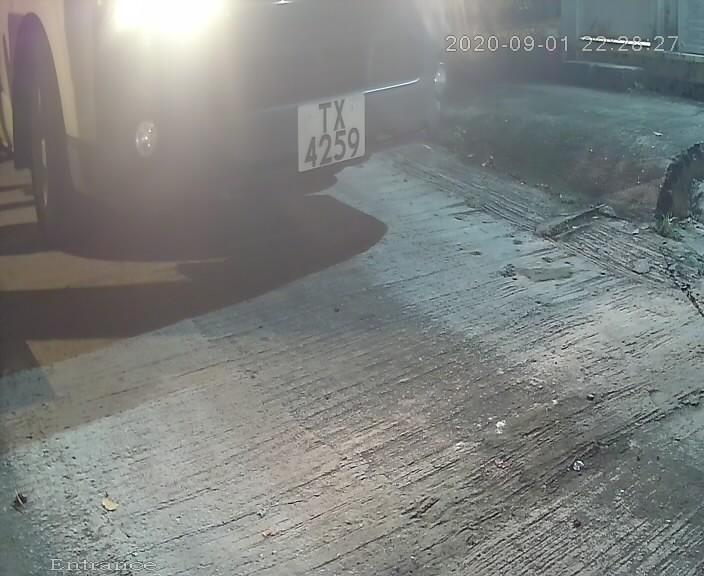License Plate: (287, 70, 381, 191)
